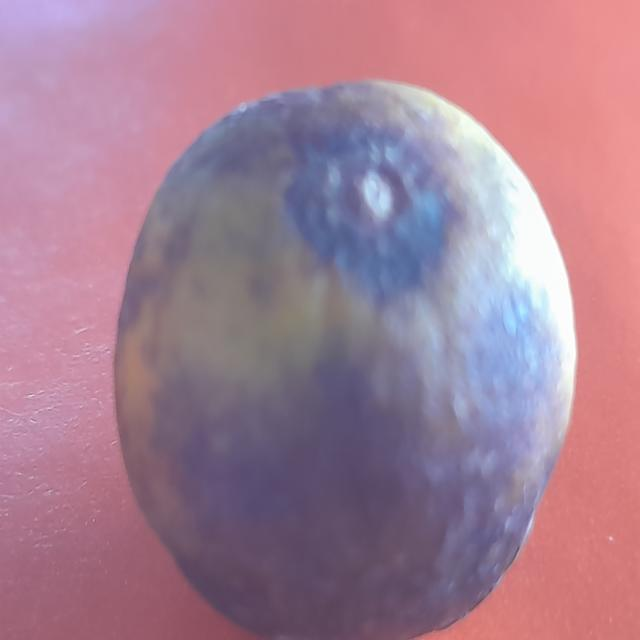black spot: (120, 86, 578, 624)
